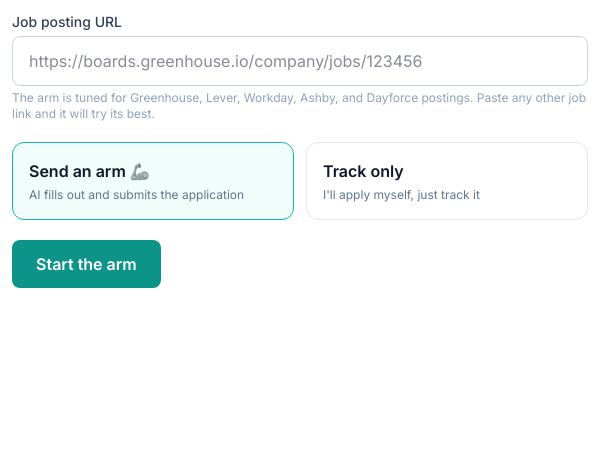
Test: NewApplicationForm › hides the best-effort warning for tuned boards, track-only mode, and half-typed URLs
Type "https://careers.example" into the field with placeholder "https://boards.greenhouse.io/company/jobs/123456".
click(300, 61); type("https://careers.example")  # box [12,36,588,86]
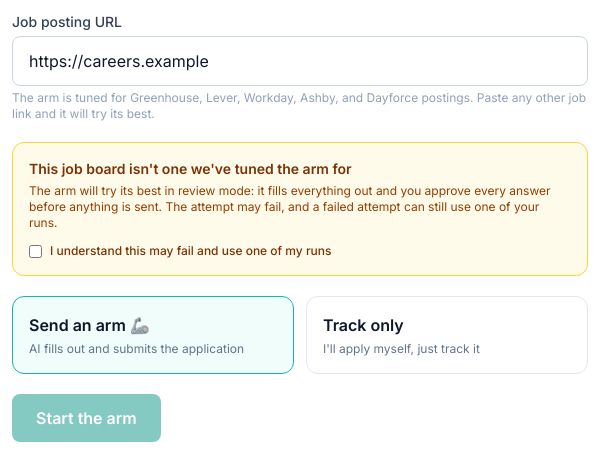
Expected: the text "This job board isn't one we've tuned the arm for" is shown, [29,160,352,177]
Replace the text in the field with placeholder "https://boards.greenhouse.io/company/jobs/123456" with "not a url yet" at (300, 61), box [12,36,588,86]
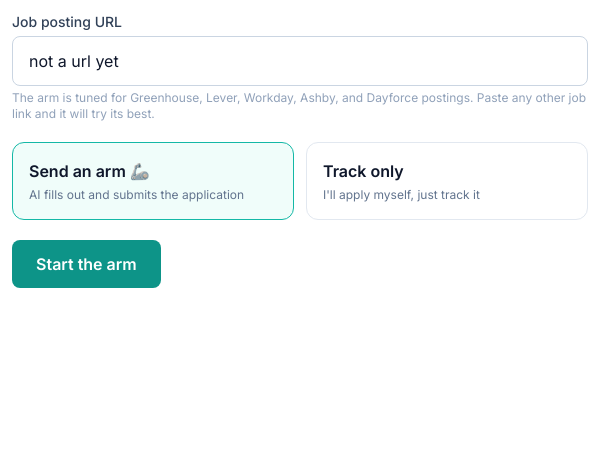
Expected: the text "isn't one we've tuned the arm for" is gone
Replace the text in the field with placeholder "https://boards.greenhouse.io/company/jobs/123456" with "http://careers.example.com/jobs/1" at (300, 61), box [12,36,588,86]
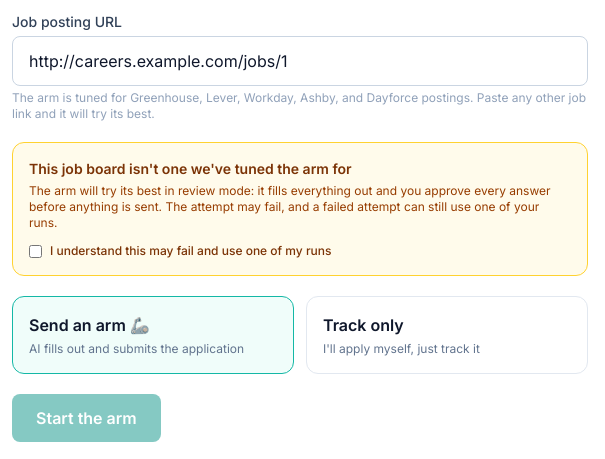
Expected: the text "This job board isn't one we've tuned the arm for" is shown, [29,160,352,177]
Replace the text in the field with placeholder "https://boards.greenhouse.io/company/jobs/123456" with "https://jobs.lever.co/acme/1" at (300, 61), box [12,36,588,86]
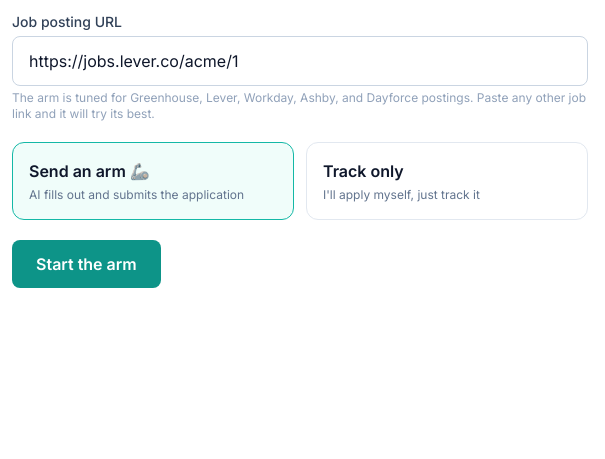
Expected: the text "isn't one we've tuned the arm for" is gone
Replace the text in the field with placeholder "https://boards.greenhouse.io/company/jobs/123456" with "https://careers.example.com/jobs/1" at (300, 61), box [12,36,588,86]
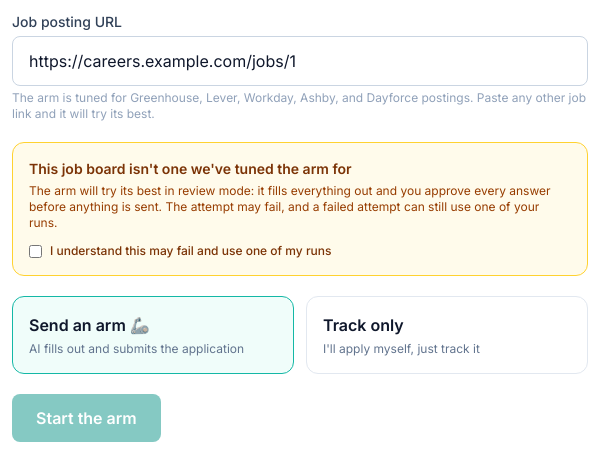
Click the text "Track only".
click(363, 325)  # box [323,315,404,335]
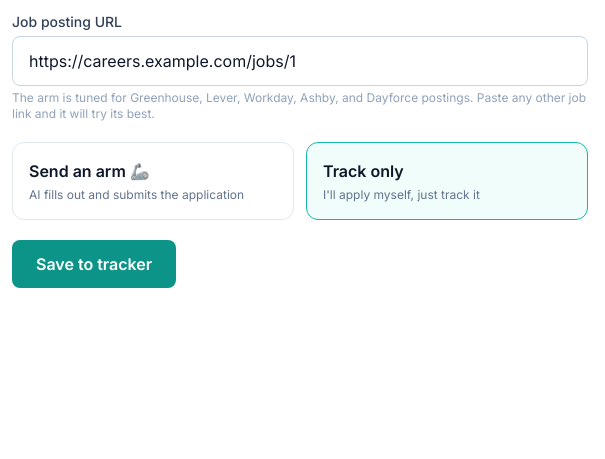
Expected: the text "isn't one we've tuned the arm for" is gone
